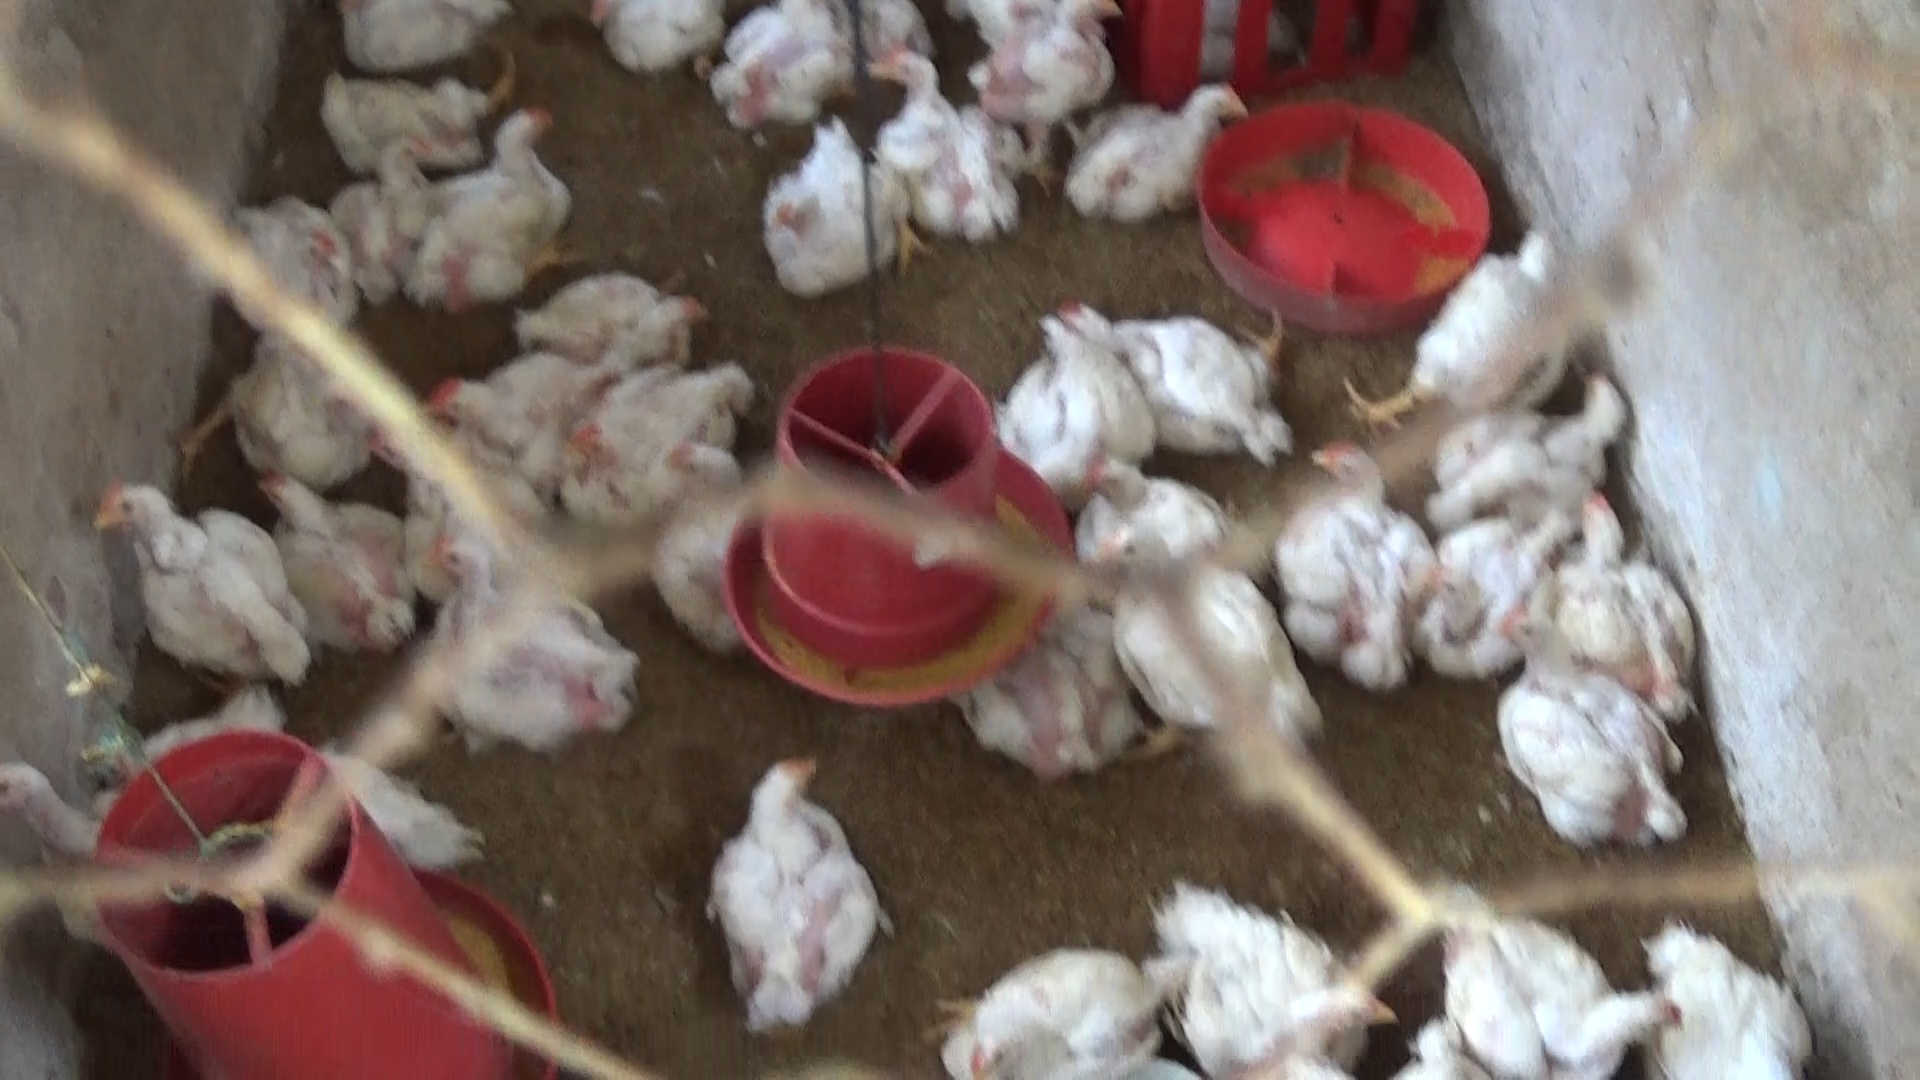Pollos: (675, 742, 897, 1038), (1420, 857, 1685, 1080), (1135, 852, 1385, 1080), (1480, 588, 1683, 857), (407, 524, 647, 748), (1331, 214, 1571, 431), (71, 477, 313, 692), (1051, 276, 1294, 463), (1549, 469, 1708, 731), (533, 352, 770, 524), (897, 932, 1168, 1080), (858, 44, 1029, 264), (625, 409, 770, 653), (1615, 909, 1821, 1073), (1288, 431, 1416, 692), (252, 463, 436, 644), (963, 302, 1151, 479), (1054, 65, 1262, 223), (1429, 371, 1642, 520), (1411, 498, 1576, 687), (942, 637, 1133, 785), (761, 113, 909, 293), (967, 0, 1139, 144), (206, 173, 360, 332), (510, 258, 716, 377), (691, 0, 856, 142), (433, 96, 593, 232), (336, 123, 469, 262), (425, 361, 589, 468), (334, 0, 526, 87), (578, 0, 711, 74)
